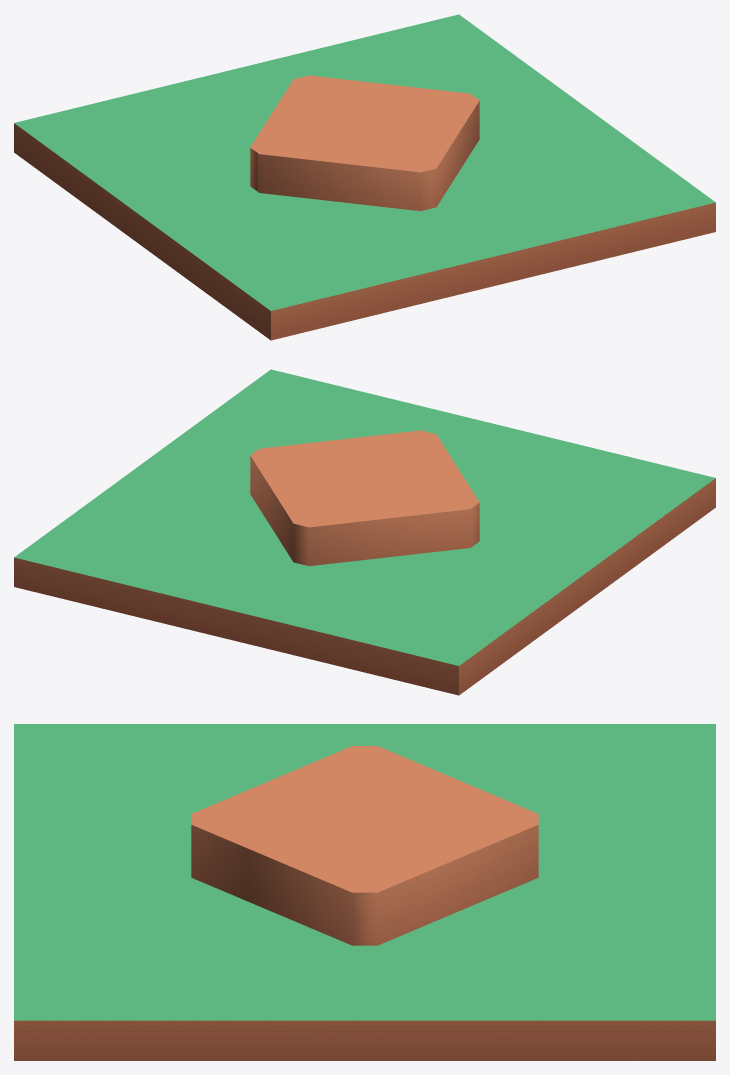
Rendered from obstacle-diamond.glb.
3 views of the same model, one above another, from view 1: azimuth 30°, elevation 25°; view 2: azimuth 150°, elevation 25°; view 3: azimuth 270°, elevation 25° (orthographic). The views are drawn at different scales.
Visible parts, largest first — view 1: obstacle-diamond; view 2: obstacle-diamond; view 3: obstacle-diamond.
Boxes of the visible parts, bbox=[...] form: obstacle-diamond: bbox=[14, 14, 715, 340]; obstacle-diamond: bbox=[14, 369, 715, 695]; obstacle-diamond: bbox=[14, 724, 715, 1060].
Size of the model in its own units: 0.9999 by 0.1467 by 0.9999.
1 material, 1 textured.
